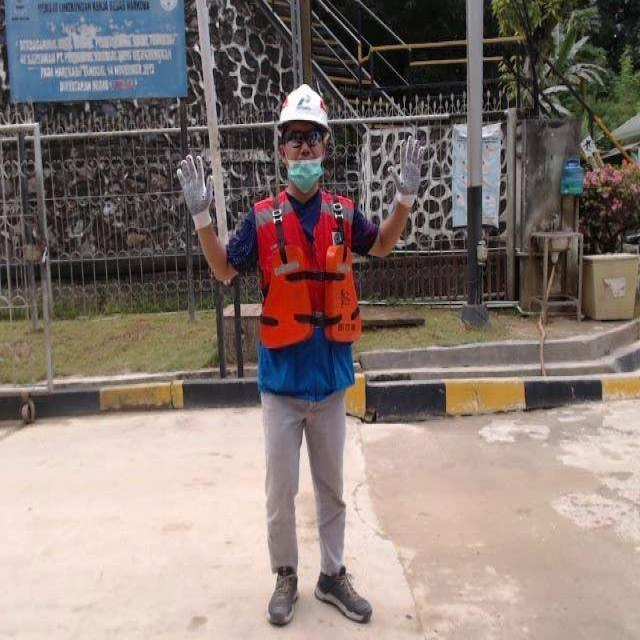boots: (313, 565, 371, 623), (267, 567, 299, 625)
gloves: (176, 153, 214, 230), (389, 134, 427, 205)
hard-hat: (276, 82, 330, 138)
person: (176, 84, 428, 626)
vest: (249, 185, 366, 351)
